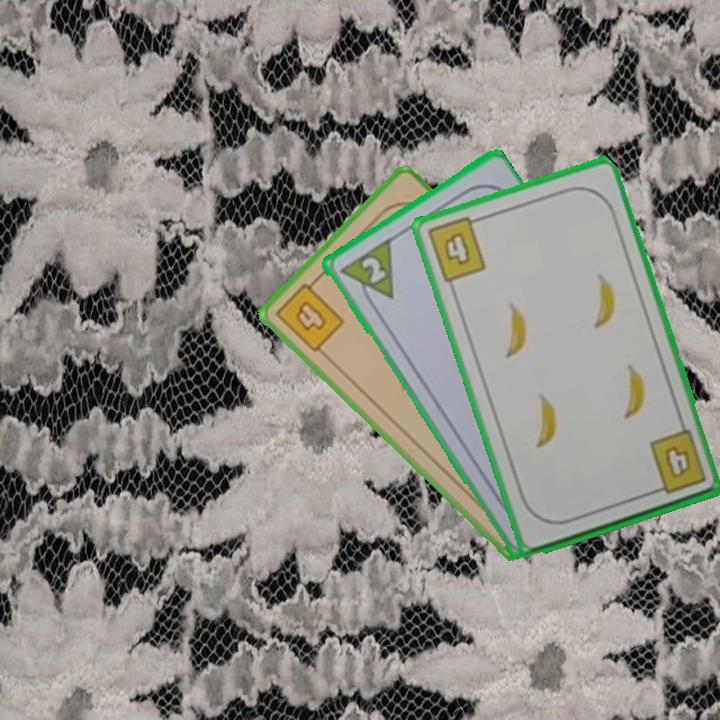2p: (335, 235, 397, 313)
4b: (271, 274, 347, 355), (423, 212, 489, 285), (645, 426, 710, 497)
